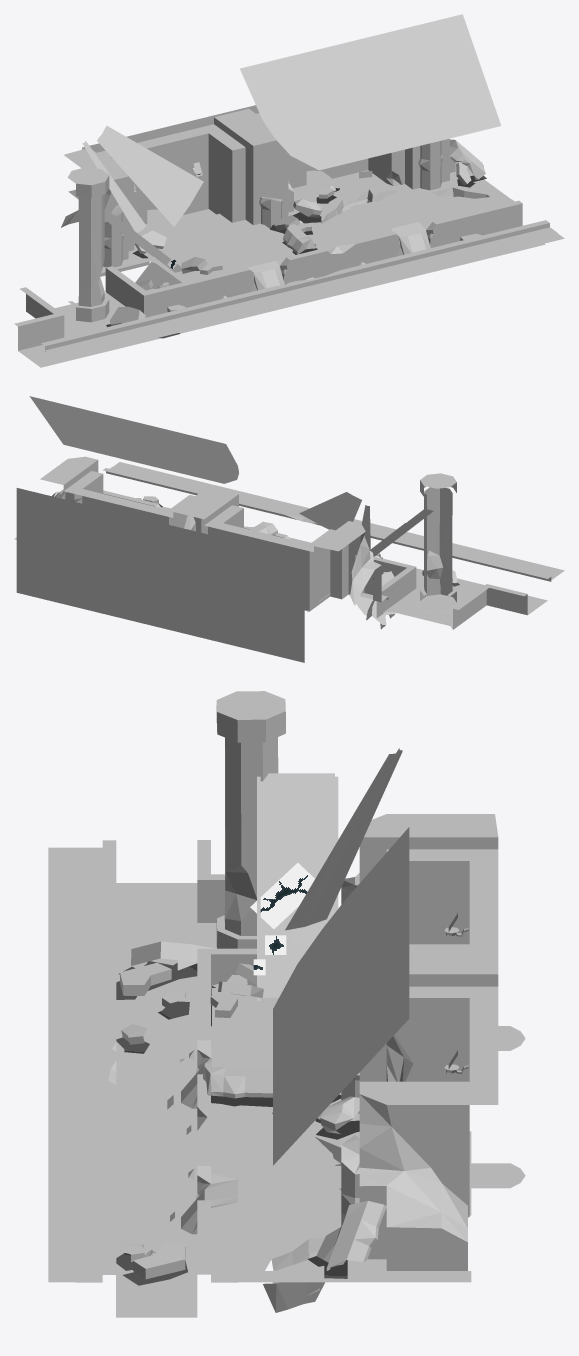
Rendered from m_ncastle05_00_0.obj.
3 renders of one model, top to bottom at view 1: azimuth 30°, elevation 25°; view 2: azimuth 150°, elevation 25°; view 3: azimuth 270°, elevation 25°, orthographic. The views are drawn at different scales.
Parts seen in each view (by area): view 1: in39_ray03_lay0_QUADS_VisGroup0, n_kabe3_lay0_QUADS_VisGroup0, n_kon2_lay0_QUADS_VisGroup0, n_yuka1_lay0_QUADS_VisGroup0, n_fuch3_lay0_QUADS_VisGroup0, in39_ray02_lay0_QUADS_VisGroup0, n_04_2_lay0_QUADS_VisGroup0, n_kon_lay0_QUADS_VisGroup0, n_colum_a_lay0_QUADS_VisGroup0, in39_yuka3_lay0_QUADS_VisGroup0, n_kabe3_lay0_TRIS_VisGroup0, n_kabe_lay0_QUADS_VisGroup0 (+15 smaller); view 2: n_kabe3_lay0_QUADS_VisGroup0, in39_ray03_lay0_QUADS_VisGroup0, n_04_2_lay0_QUADS_VisGroup0, n_kon2_lay0_QUADS_VisGroup0, n_colum_a_lay0_QUADS_VisGroup0, n_yuka1_lay0_QUADS_VisGroup0, n_kon_lay0_QUADS_VisGroup0, in39_yuka3_lay0_QUADS_VisGroup0, n_kabe_lay0_QUADS_VisGroup0, n_fuch3_lay0_QUADS_VisGroup0, n_04_2_lay0_TRIS_VisGroup0, n_kabe3_lay0_TRIS_VisGroup0 (+5 smaller); view 3: n_04_2_lay0_QUADS_VisGroup0, in39_ray03_lay0_QUADS_VisGroup0, n_kabe3_lay0_QUADS_VisGroup0, n_yuka1_lay0_QUADS_VisGroup0, n_fuch3_lay0_QUADS_VisGroup0, in39_kaidan2_lay0_QUADS_VisGroup0, n_kon_lay0_QUADS_VisGroup0, in39_yuka3_lay0_QUADS_VisGroup0, n_kabe3_lay0_TRIS_VisGroup0, in39_yuka3_lay0_TRIS_VisGroup0, n_colum_a_lay0_QUADS_VisGroup0, n_tenjyo_lay0_QUADS_VisGroup0 (+14 smaller).
Part boxes in pixels (box(x1,y1,x2,y2)): in39_ray03_lay0_QUADS_VisGroup0: box(82, 14, 501, 232); n_kabe3_lay0_QUADS_VisGroup0: box(64, 105, 485, 286); n_kon2_lay0_QUADS_VisGroup0: box(18, 203, 549, 351); n_yuka1_lay0_QUADS_VisGroup0: box(52, 178, 564, 361); n_fuch3_lay0_QUADS_VisGroup0: box(45, 162, 557, 355); in39_ray02_lay0_QUADS_VisGroup0: box(134, 213, 294, 282); n_04_2_lay0_QUADS_VisGroup0: box(18, 108, 545, 367); n_kon_lay0_QUADS_VisGroup0: box(14, 200, 549, 345); n_colum_a_lay0_QUADS_VisGroup0: box(68, 175, 109, 322); in39_yuka3_lay0_QUADS_VisGroup0: box(61, 140, 474, 297); n_kabe3_lay0_TRIS_VisGroup0: box(104, 141, 485, 291); n_kabe_lay0_QUADS_VisGroup0: box(111, 133, 368, 214); n_kabe3_lay0_QUADS_VisGroup0: box(16, 456, 394, 662); in39_ray03_lay0_QUADS_VisGroup0: box(29, 396, 370, 549); n_04_2_lay0_QUADS_VisGroup0: box(63, 465, 547, 625); n_kon2_lay0_QUADS_VisGroup0: box(103, 471, 551, 629); n_colum_a_lay0_QUADS_VisGroup0: box(420, 480, 456, 602); n_yuka1_lay0_QUADS_VisGroup0: box(113, 462, 564, 575); n_kon_lay0_QUADS_VisGroup0: box(102, 468, 550, 615); in39_yuka3_lay0_QUADS_VisGroup0: box(40, 459, 443, 617); n_kabe_lay0_QUADS_VisGroup0: box(82, 496, 309, 611); n_fuch3_lay0_QUADS_VisGroup0: box(14, 466, 557, 610); n_04_2_lay0_TRIS_VisGroup0: box(64, 484, 452, 629); n_kabe3_lay0_TRIS_VisGroup0: box(72, 460, 387, 611); n_04_2_lay0_QUADS_VisGroup0: box(116, 837, 498, 1317); in39_ray03_lay0_QUADS_VisGroup0: box(273, 748, 409, 1165); n_kabe3_lay0_QUADS_VisGroup0: box(208, 814, 498, 1270); n_yuka1_lay0_QUADS_VisGroup0: box(48, 847, 359, 1282); n_fuch3_lay0_QUADS_VisGroup0: box(75, 847, 471, 1282); in39_kaidan2_lay0_QUADS_VisGroup0: box(257, 773, 338, 1000); n_kon_lay0_QUADS_VisGroup0: box(102, 840, 256, 1274); in39_yuka3_lay0_QUADS_VisGroup0: box(108, 862, 498, 1262); n_kabe3_lay0_TRIS_VisGroup0: box(205, 832, 469, 1268); in39_yuka3_lay0_TRIS_VisGroup0: box(109, 865, 441, 1257); n_colum_a_lay0_QUADS_VisGroup0: box(216, 705, 285, 948); n_tenjyo_lay0_QUADS_VisGroup0: box(120, 941, 214, 1279).
Bounding box in the file's own units: 611 × 222 × 285.
